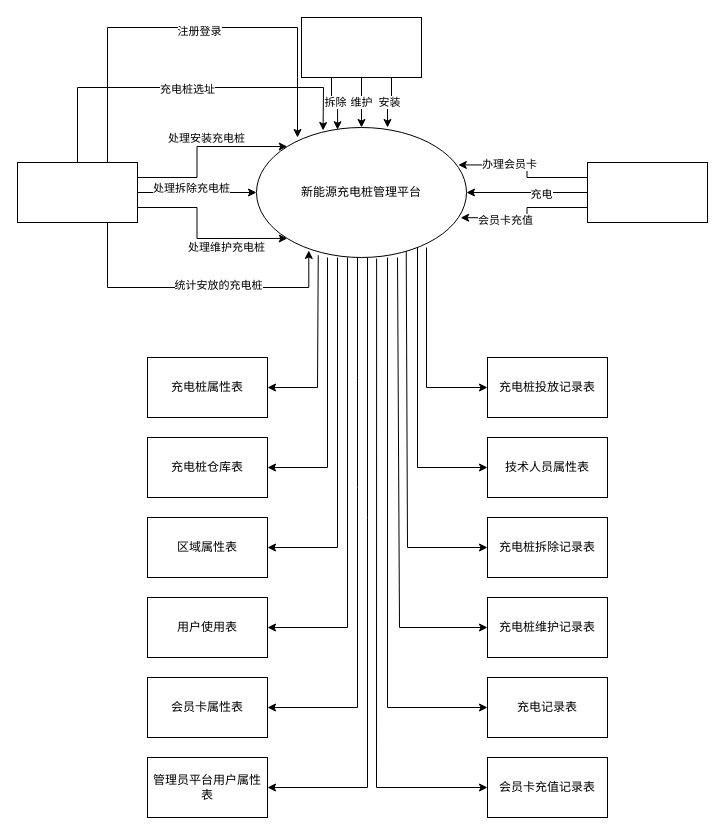
Image size: 725x835. Some labels were removed from this diagram. Each missing label, with the box of its shape:
会员: (586, 162, 708, 222)
技术人员: (300, 16, 422, 78)
管理员: (16, 162, 138, 222)
